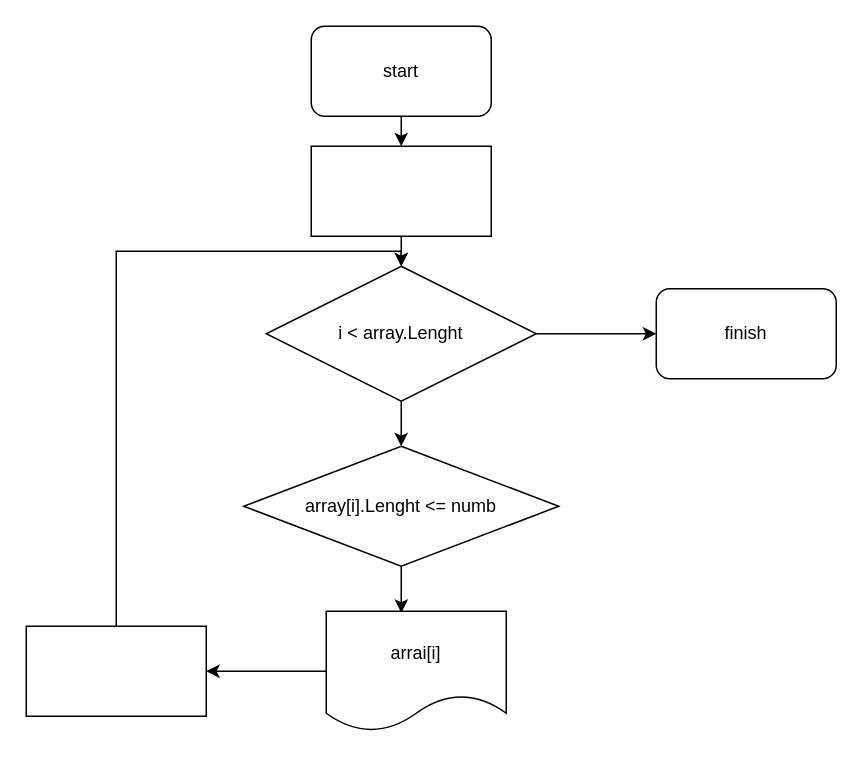
This 863x758 diagram has some shape labels left out. Each missing label, with the box of its shape:
i ++: (25, 625, 206, 716)
numb = 3 i = 0 array[4]: (310, 145, 491, 236)
